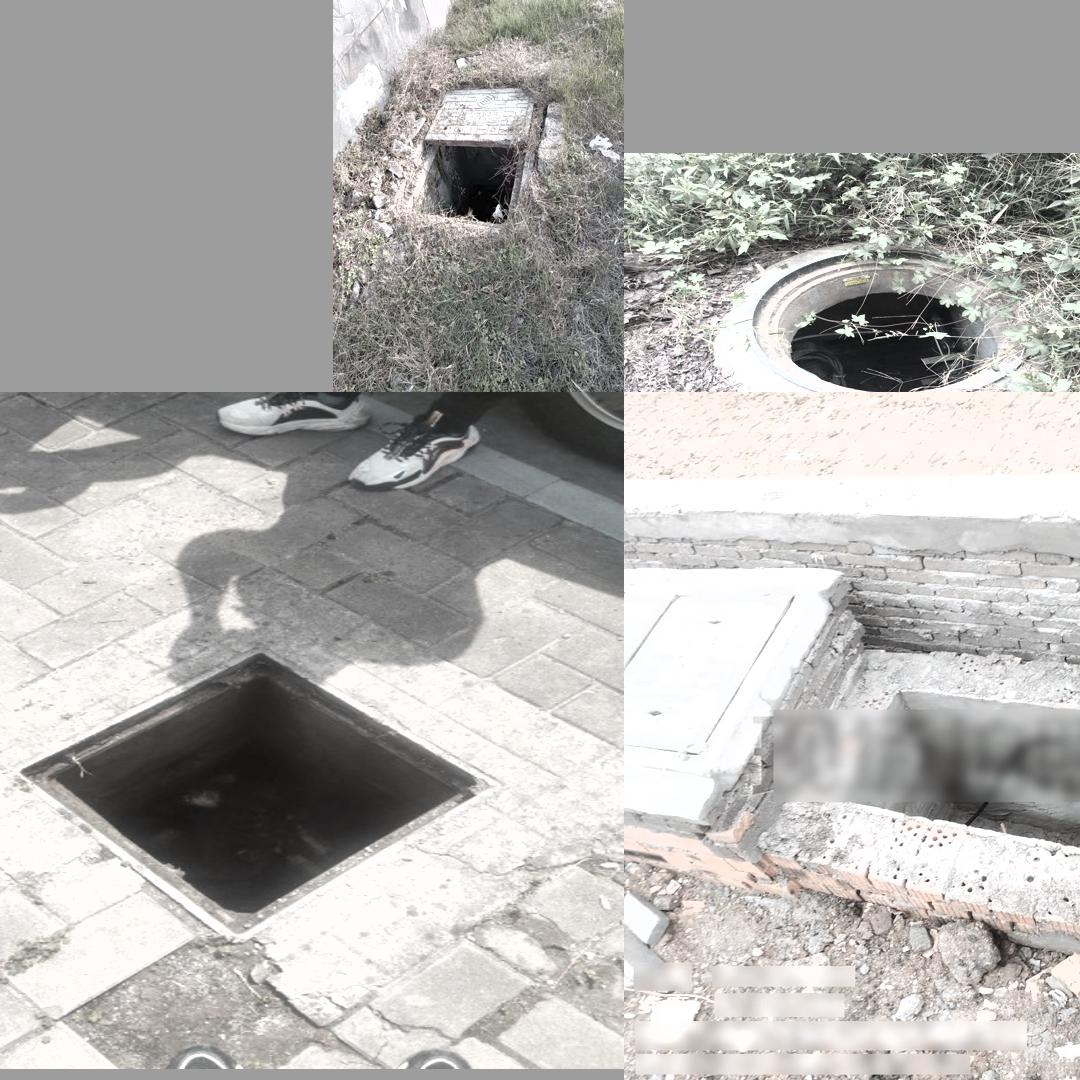lose: (12, 648, 505, 945), (731, 241, 1054, 389), (834, 686, 1080, 857), (383, 68, 562, 252)
